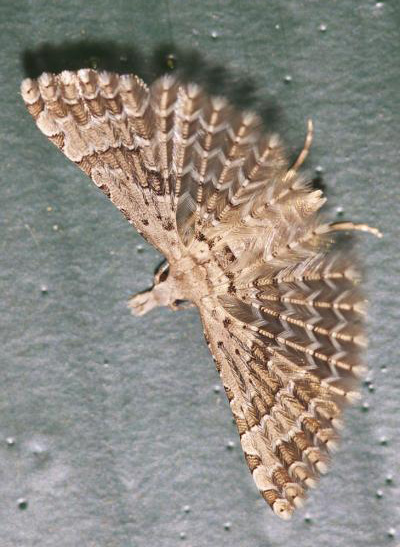Alucitidae: (15, 46, 383, 522)
moth: (17, 48, 385, 524)
